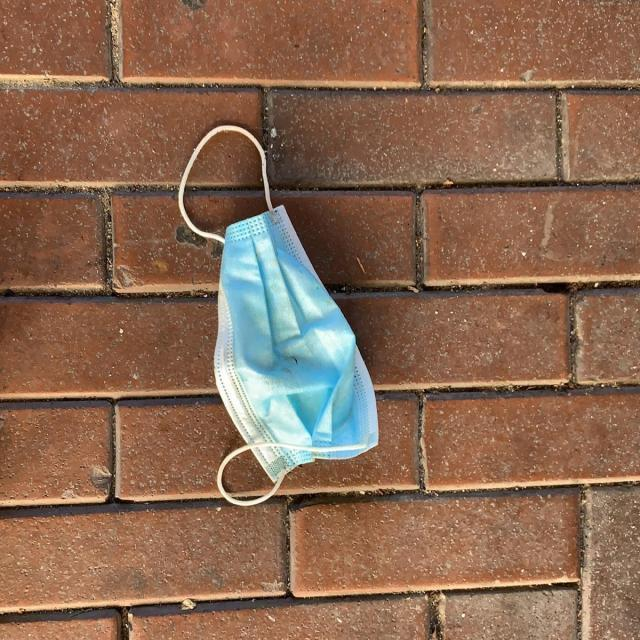Mask: (172, 119, 382, 511)
